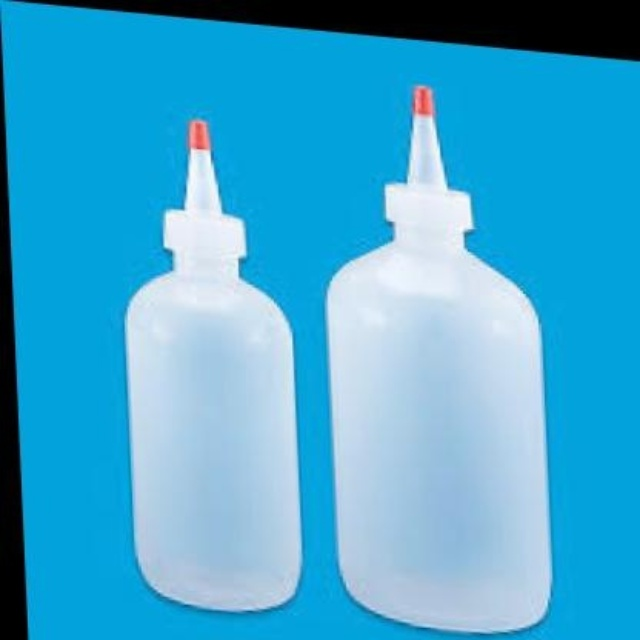trash: (328, 86, 551, 631), (126, 120, 300, 609)
